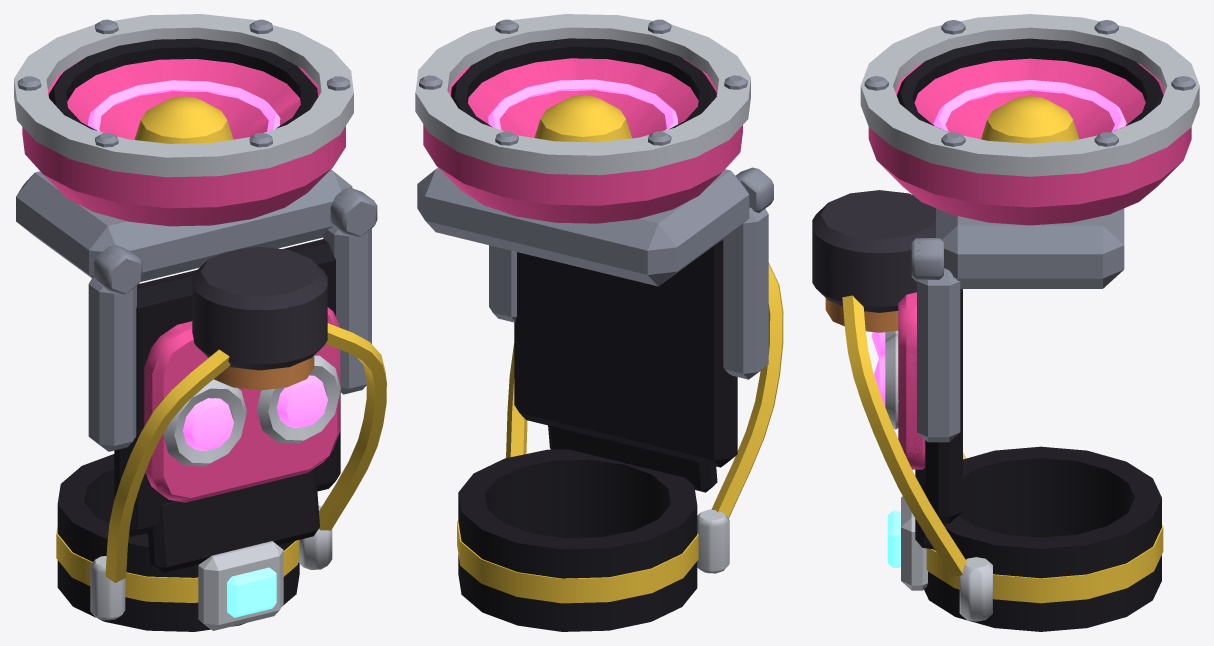
The model's file is speaker_knuckles.glb.
3 renders of one model, left to right at view 1: azimuth 30°, elevation 25°; view 2: azimuth 150°, elevation 25°; view 3: azimuth 270°, elevation 25°, orthographic.
Parts seen in each view (by area): view 1: Gauntlet_R, Gauntlet_L; view 2: Gauntlet_R, Gauntlet_L; view 3: Gauntlet_R, Gauntlet_L.
Part boxes in pixels (bbox=[...]): Gauntlet_R: bbox=[14, 14, 377, 631]; Gauntlet_L: bbox=[14, 14, 386, 631]; Gauntlet_R: bbox=[415, 14, 783, 631]; Gauntlet_L: bbox=[415, 19, 773, 631]; Gauntlet_R: bbox=[812, 14, 1199, 631]; Gauntlet_L: bbox=[812, 18, 1199, 631].
Bounding box in the file's own units: 0.126 × 0.2057 × 0.144.
